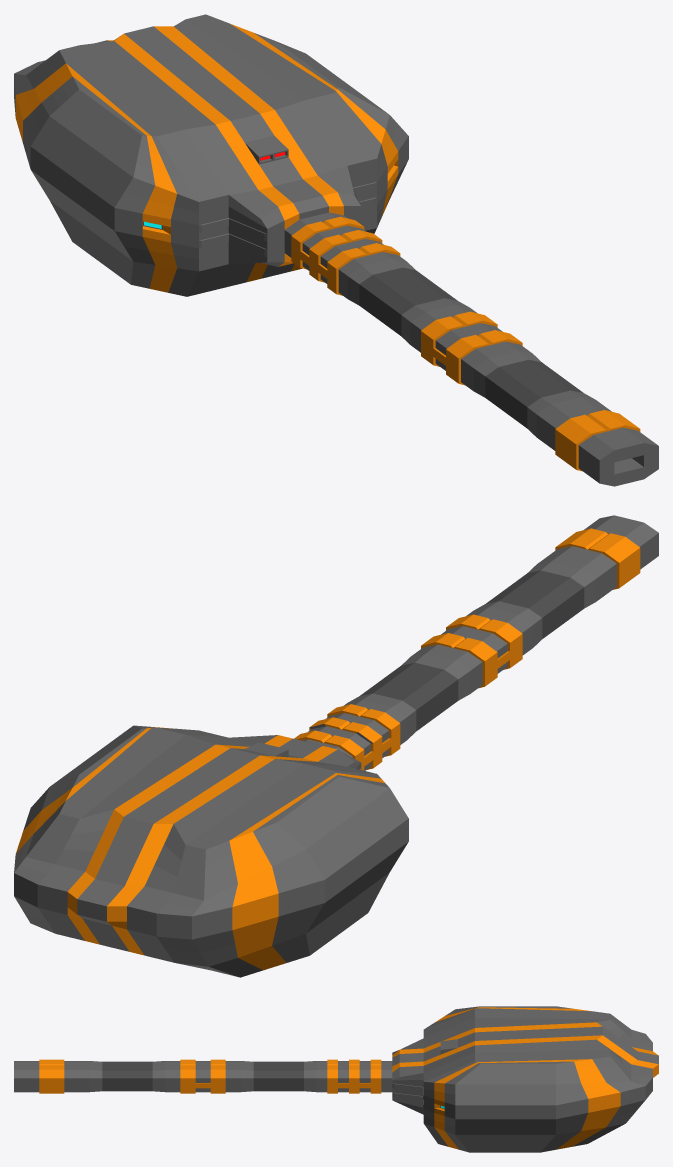
The model's file is TurretV2_Textures.fbx.
3 views of the same model, one above another, from view 1: azimuth 30°, elevation 25°; view 2: azimuth 150°, elevation 25°; view 3: azimuth 270°, elevation 25° (orthographic). The views are drawn at different scales.
Visible parts, largest first — view 1: Turret; view 2: Turret; view 3: Turret.
Part boxes in pixels (<box>): Turret: <box>14,14,658,486</box>; Turret: <box>14,515,658,977</box>; Turret: <box>14,1006,658,1152</box>.
Size of the model in its own units: 1168 by 549 by 3693.
